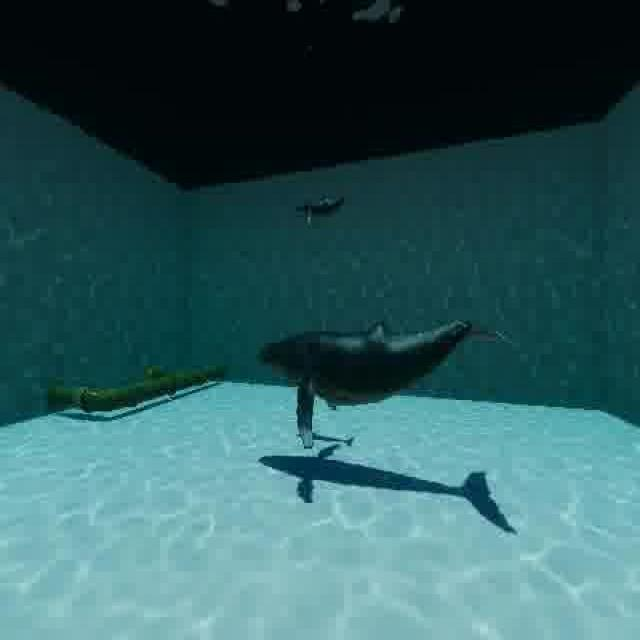Pipe: (42, 358, 230, 426)
Whale: (252, 309, 532, 461), (286, 188, 355, 234)
